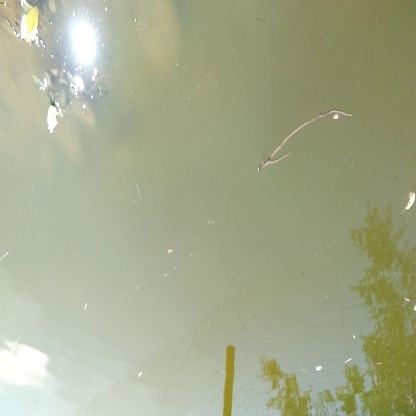branch: (253, 94, 359, 181)
